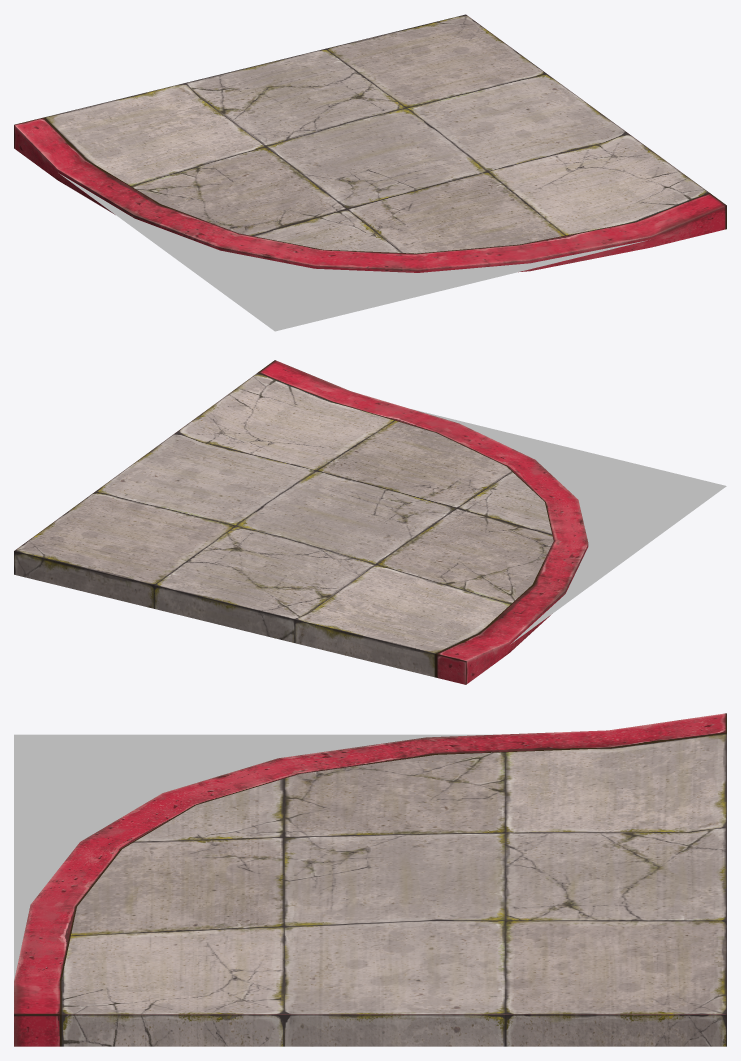
The model's file is sidewalk02_cornerCross.fbx.
The picture shows the model from 3 angles, top to bottom: view 1: azimuth 30°, elevation 25°; view 2: azimuth 150°, elevation 25°; view 3: azimuth 270°, elevation 25°; orthographic projection. The views are drawn at different scales.
Visible parts, largest first — view 1: sidewalk02_cornerCross; view 2: sidewalk02_cornerCross; view 3: sidewalk02_cornerCross.
Part boxes in pixels (x1,y1,x2,y2): sidewalk02_cornerCross: (14,14,726,331); sidewalk02_cornerCross: (14,360,726,684); sidewalk02_cornerCross: (14,713,726,1046).
Size of the model in its own units: 300 by 15 by 300.
